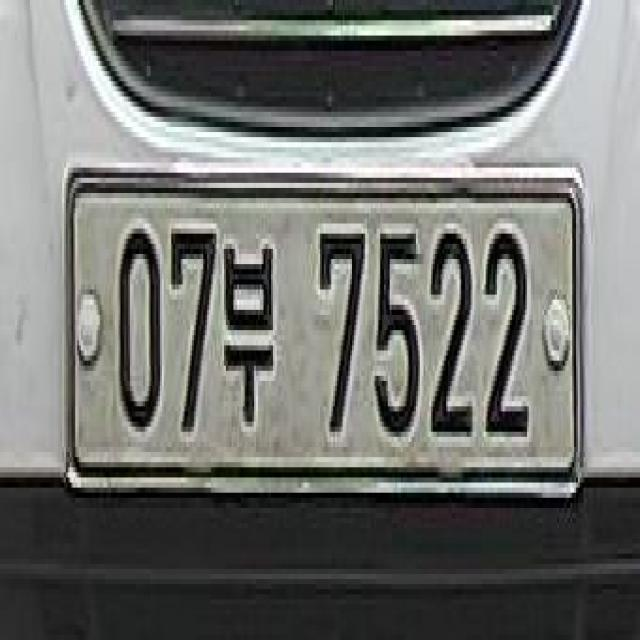illegal_plate: (68, 150, 590, 524)
